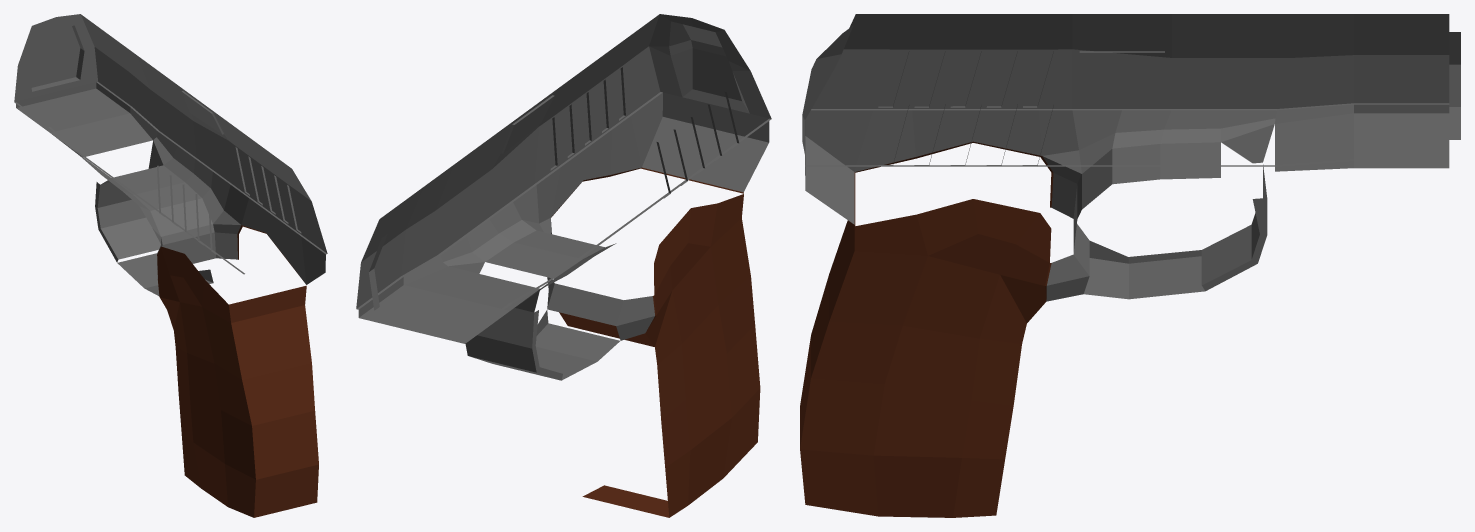
The model's file is gun_pistol.glb.
3 views of the same model, side by side, from view 1: azimuth 30°, elevation 25°; view 2: azimuth 150°, elevation 25°; view 3: azimuth 270°, elevation 25° (orthographic). The views are drawn at different scales.
Parts seen in each view (by area): view 1: prefab; view 2: prefab; view 3: prefab.
Part boxes in pixels (x1=…): prefab: x1=14, y1=14, x2=327, y2=517; prefab: x1=356, y1=14, x2=771, y2=517; prefab: x1=800, y1=14, x2=1460, y2=517.
Bounding box in the file's own units: 0.047 × 0.1725 × 0.22.
